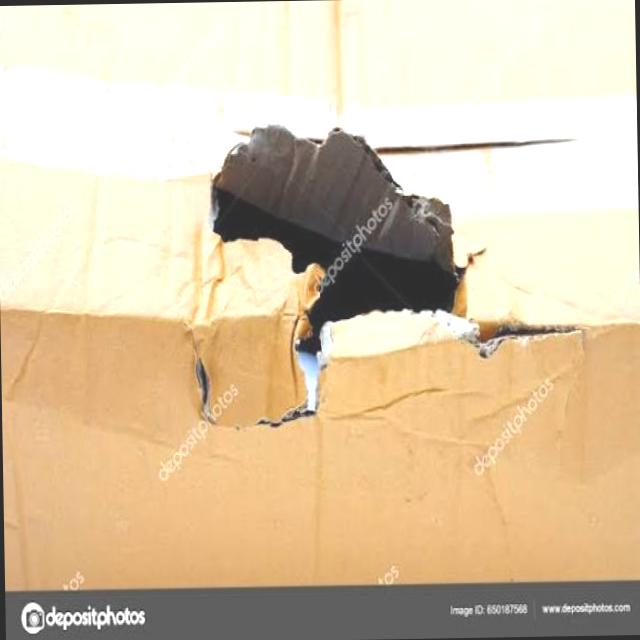package_damage: (167, 106, 604, 464)
